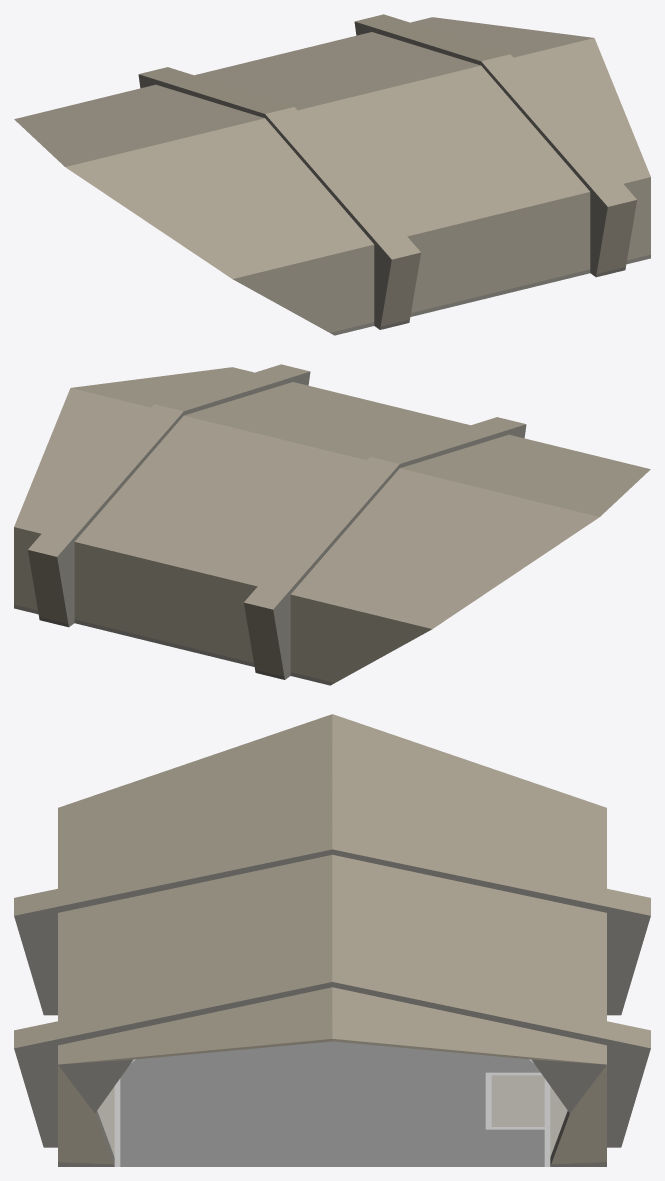
The model's file is TheHanger.fbx.
The picture shows the model from 3 angles, top to bottom: view 1: azimuth 30°, elevation 25°; view 2: azimuth 150°, elevation 25°; view 3: azimuth 270°, elevation 25°; orthographic projection. The views are drawn at different scales.
Parts seen in each view (by area): view 1: TheHanger; view 2: TheHanger; view 3: TheHanger.
Part boxes in pixels (left/top/right/bottom): TheHanger: left=14, top=14, right=650, bottom=335; TheHanger: left=14, top=364, right=650, bottom=685; TheHanger: left=14, top=714, right=650, bottom=1166.
Bounding box in the file's own units: 6880 × 1638 × 5703.
Materials: 1 (1 with a texture image).
